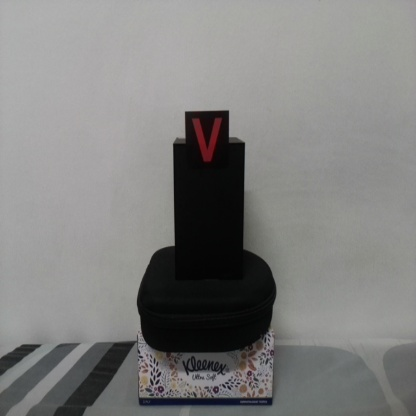id_11: (184, 112, 229, 172)
